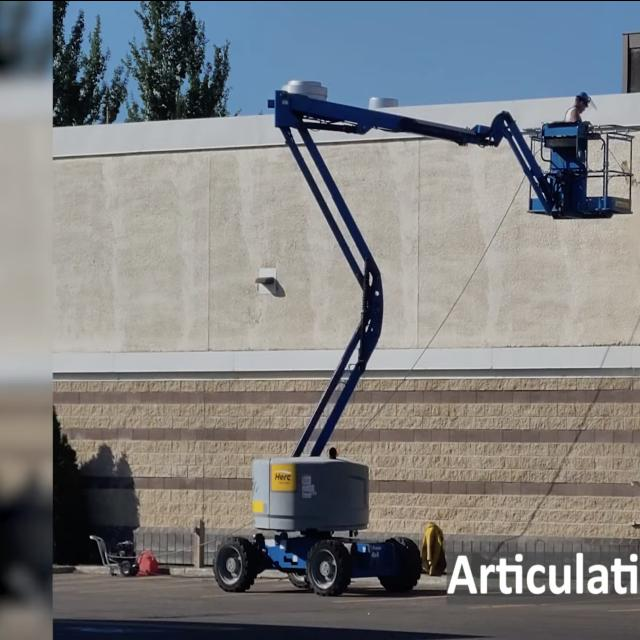2m above platform: (206, 86, 632, 594)
worker: (568, 84, 593, 121)
